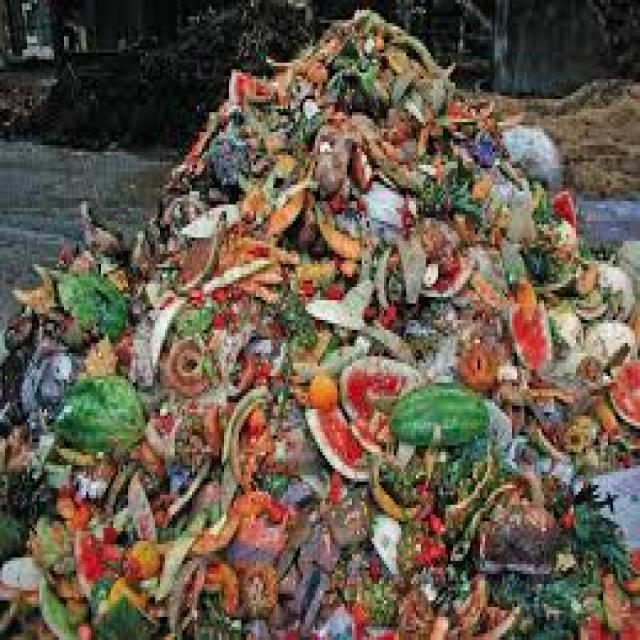food_waste: (63, 288, 567, 598), (242, 113, 535, 608)
